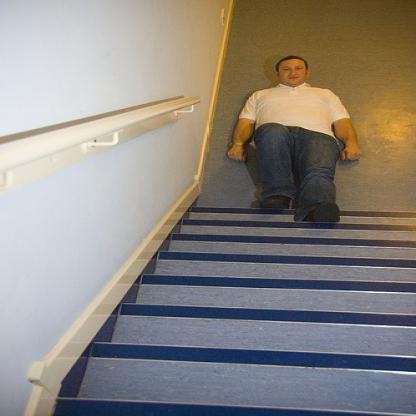stairs: (170, 232, 406, 416)
